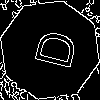D: (25, 25, 78, 72)
